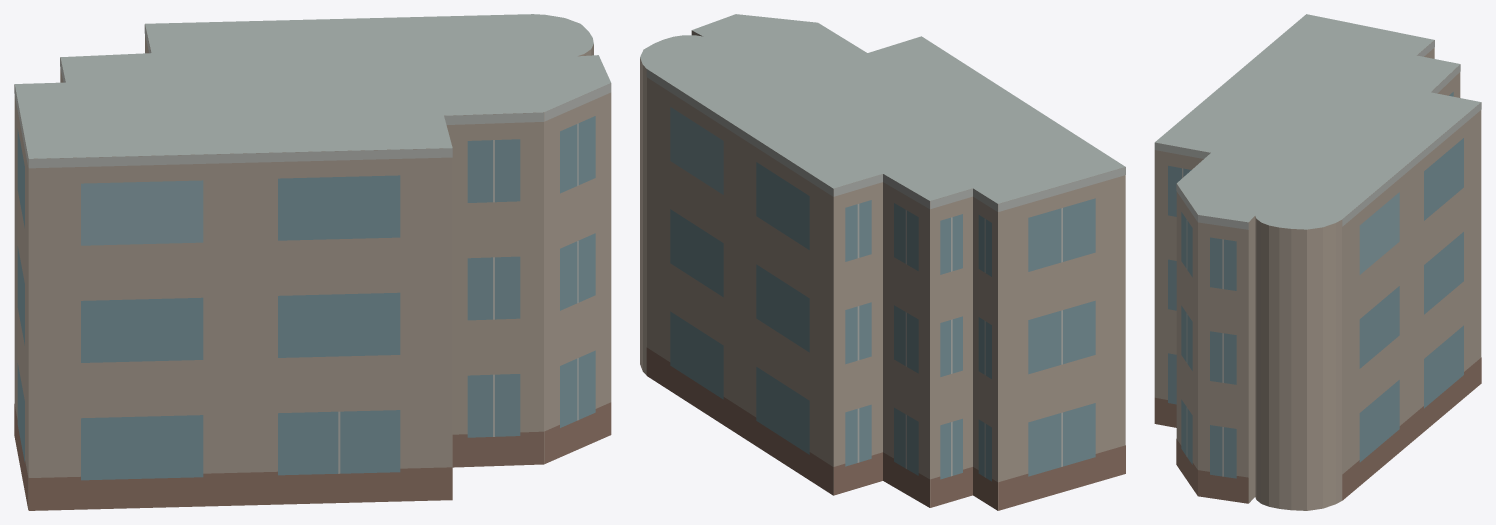
Rendered from survey-upis-32509690.glb.
3 views of the same model, side by side, from view 1: azimuth 30°, elevation 25°; view 2: azimuth 150°, elevation 25°; view 3: azimuth 270°, elevation 25° (orthographic). The views are drawn at different scales.
Visible parts, largest first — view 1: survey-upis-32509690.tmp; view 2: survey-upis-32509690.tmp; view 3: survey-upis-32509690.tmp.
Boxes of the visible parts, x1=… form: survey-upis-32509690.tmp: x1=14, y1=14, x2=611, y2=510; survey-upis-32509690.tmp: x1=640, y1=14, x2=1125, y2=510; survey-upis-32509690.tmp: x1=1154, y1=14, x2=1481, y2=510.
Size of the model in its own units: 14.96 by 9.1 by 9.59.
